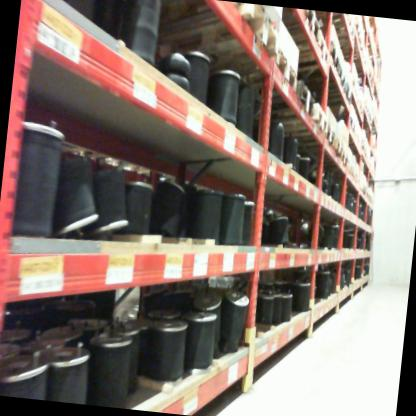pallet: (131, 0, 287, 83), (143, 36, 301, 108), (238, 73, 320, 126), (259, 95, 329, 140), (274, 52, 351, 82), (279, 117, 338, 152), (298, 74, 353, 104), (283, 8, 324, 38), (314, 26, 342, 69), (323, 135, 349, 163), (338, 155, 350, 170)
